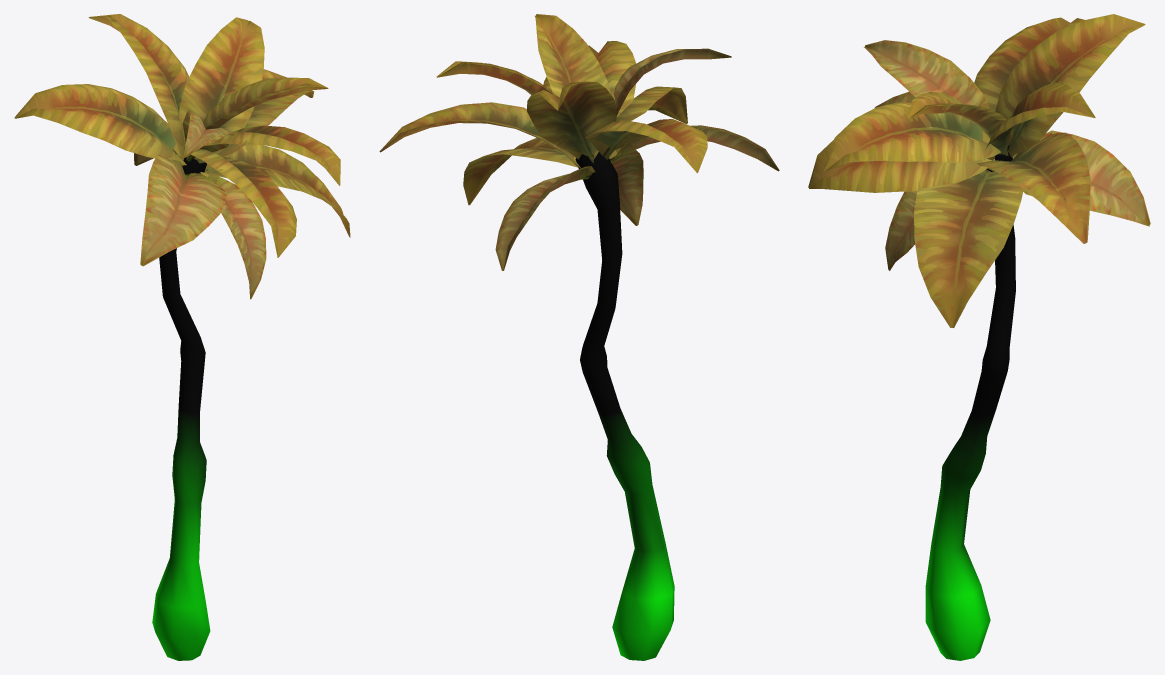
The model's file is SM_DesertPalmSapling03.fbx.
3 renders of one model, left to right at view 1: azimuth 30°, elevation 25°; view 2: azimuth 150°, elevation 25°; view 3: azimuth 270°, elevation 25°, orthographic. The views are drawn at different scales.
Parts seen in each view (by area): view 1: SM_DesertPalmSapling03_LOD0; view 2: SM_DesertPalmSapling03_LOD0; view 3: SM_DesertPalmSapling03_LOD0.
Part boxes in pixels (x1,y1,x2,y2): SM_DesertPalmSapling03_LOD0: (14,14,350,660); SM_DesertPalmSapling03_LOD0: (379,14,779,660); SM_DesertPalmSapling03_LOD0: (808,14,1150,660).
Size of the model in its own units: 323 by 606 by 296.
